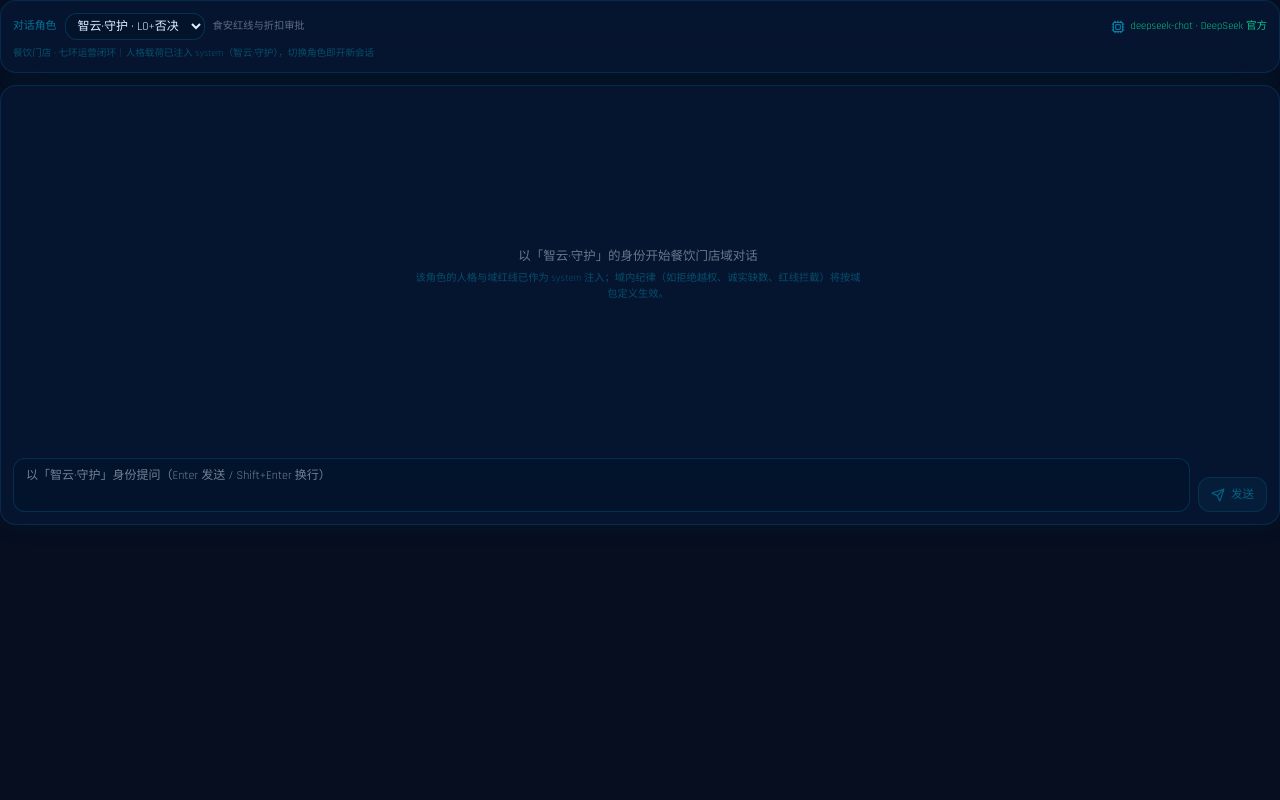
Test: DomainChatPanel · 域内对话(Phase 1) › 5. 调用失败：展示错误且保留用户消息
The image size is (1280, 800).
Type "测试失败" into the text box named "对话输入".
click(602, 485); type("测试失败")  # box x1=13 y1=458 x2=1190 y2=512
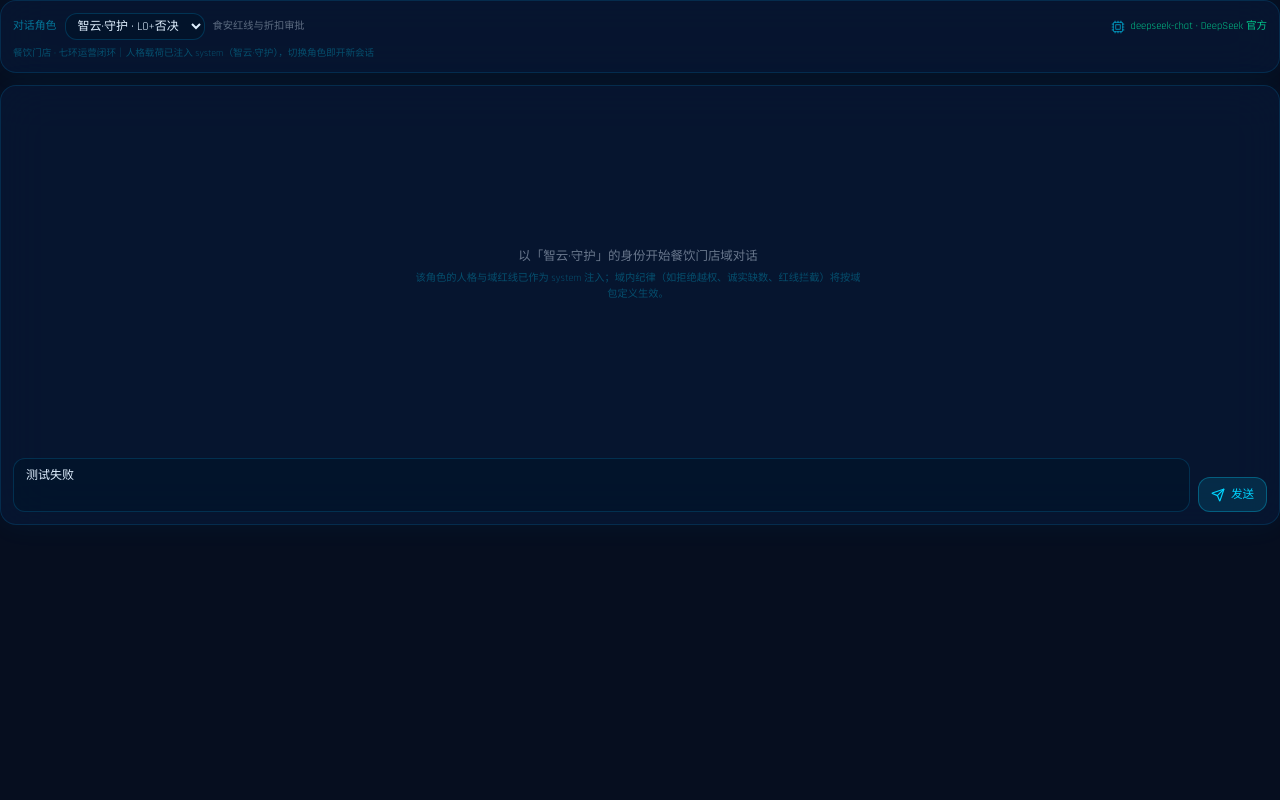
Click the button "发送".
click(1232, 495)  # box x1=1198 y1=477 x2=1267 y2=512
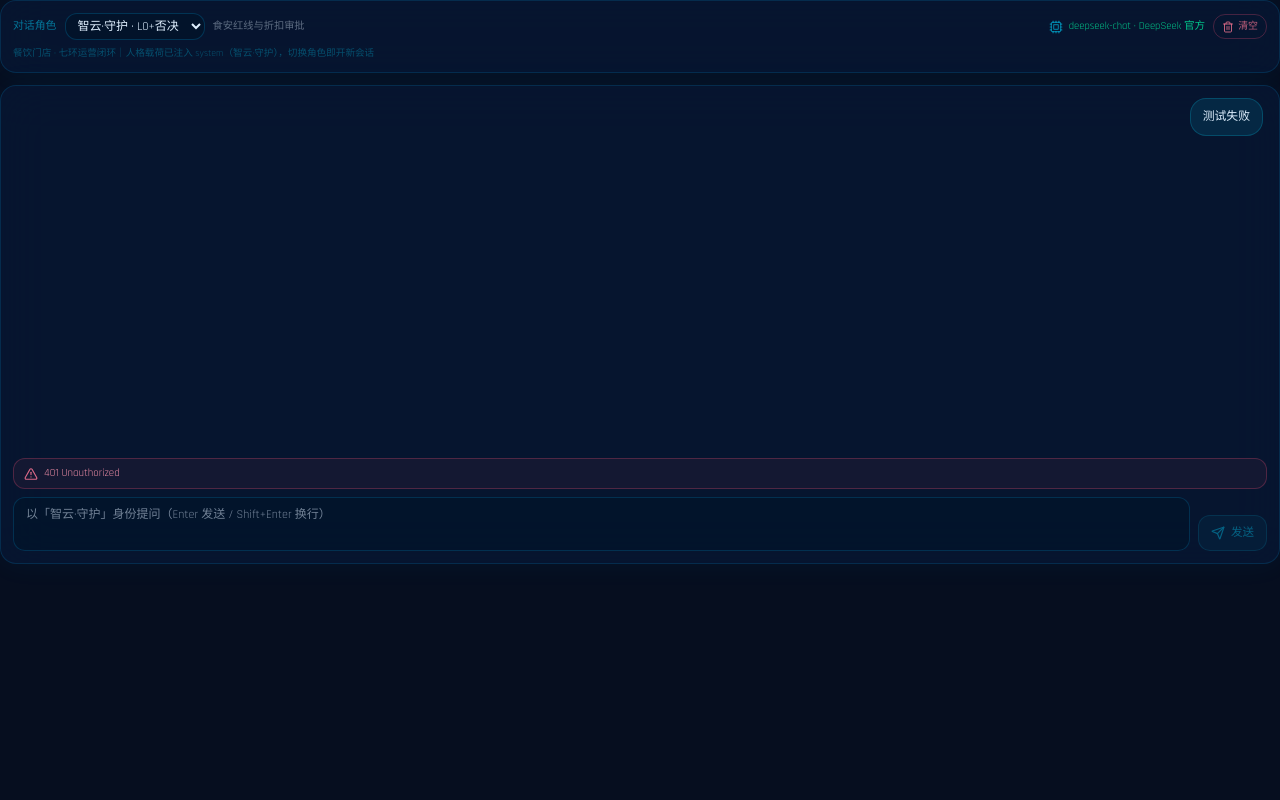
Check: the text "401 Unauthorized" is shown, box x1=44 y1=465 x2=120 y2=482
Check: the text "测试失败" is shown, box x1=1190 y1=98 x2=1263 y2=136
